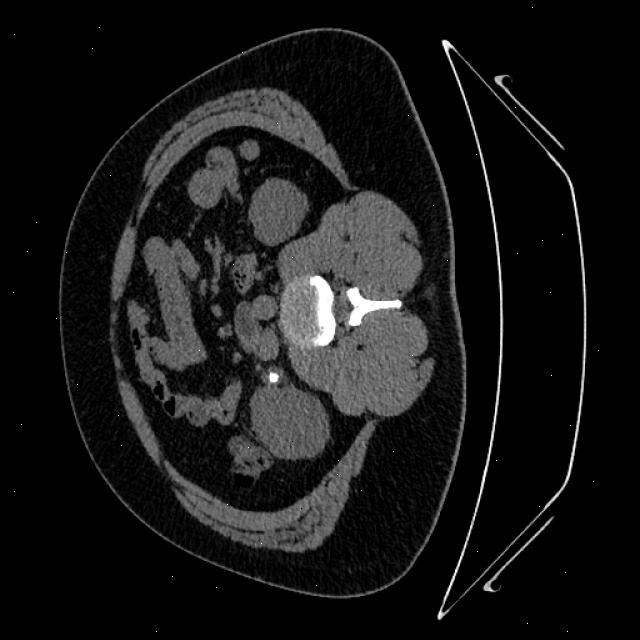kidneystone: (269, 370, 279, 382)
